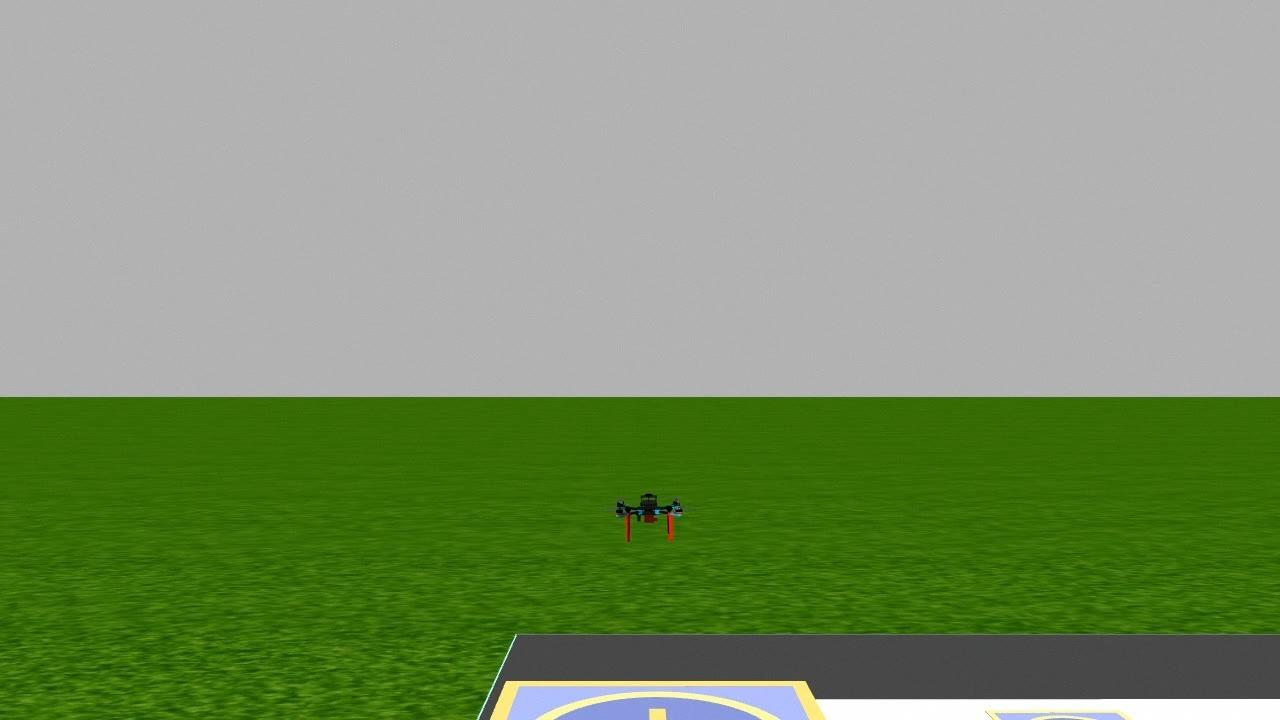UAV: (599, 472, 694, 554)
